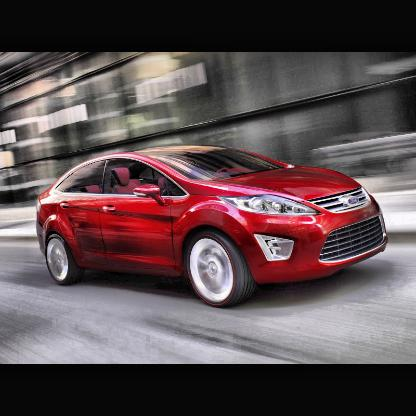Ford Fiesta Sedan 2012: (37, 145, 389, 309)
